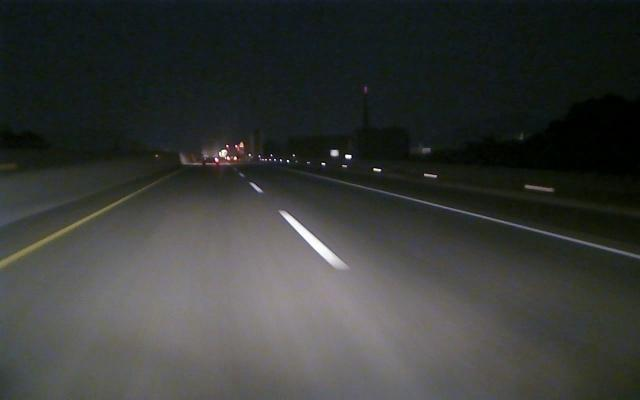lane: (330, 178, 637, 260), (2, 184, 152, 268), (249, 182, 353, 269)
